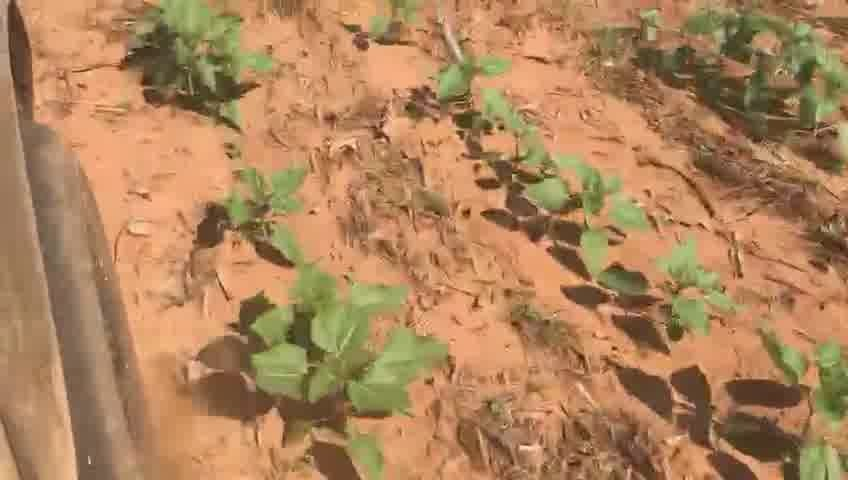sunflower: (239, 265, 454, 431), (719, 332, 842, 476), (136, 3, 270, 125), (603, 230, 735, 342), (533, 168, 658, 269), (226, 162, 316, 268), (429, 42, 514, 109), (493, 126, 565, 191), (467, 82, 534, 145)
